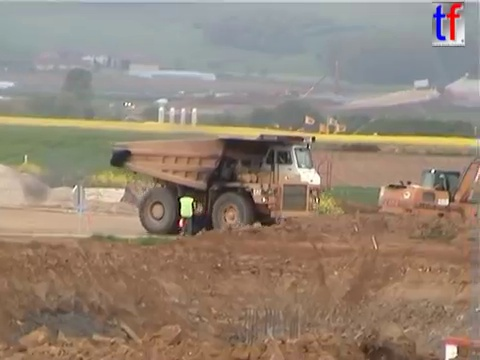excavator: (374, 156, 480, 240)
truck: (107, 133, 323, 240)
worker: (175, 187, 197, 238)
